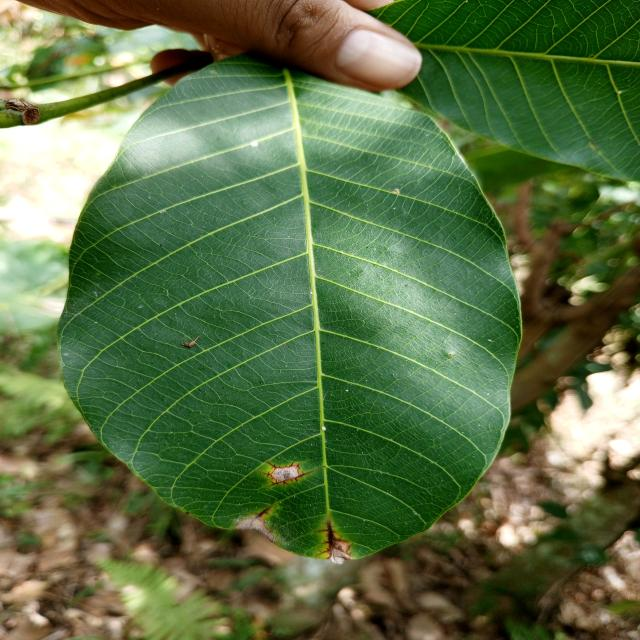Corynespora: (314, 520, 351, 556), (258, 462, 312, 486), (254, 506, 270, 518)
Leaf-Blight: (236, 516, 275, 540), (272, 466, 300, 482), (329, 548, 351, 564)
